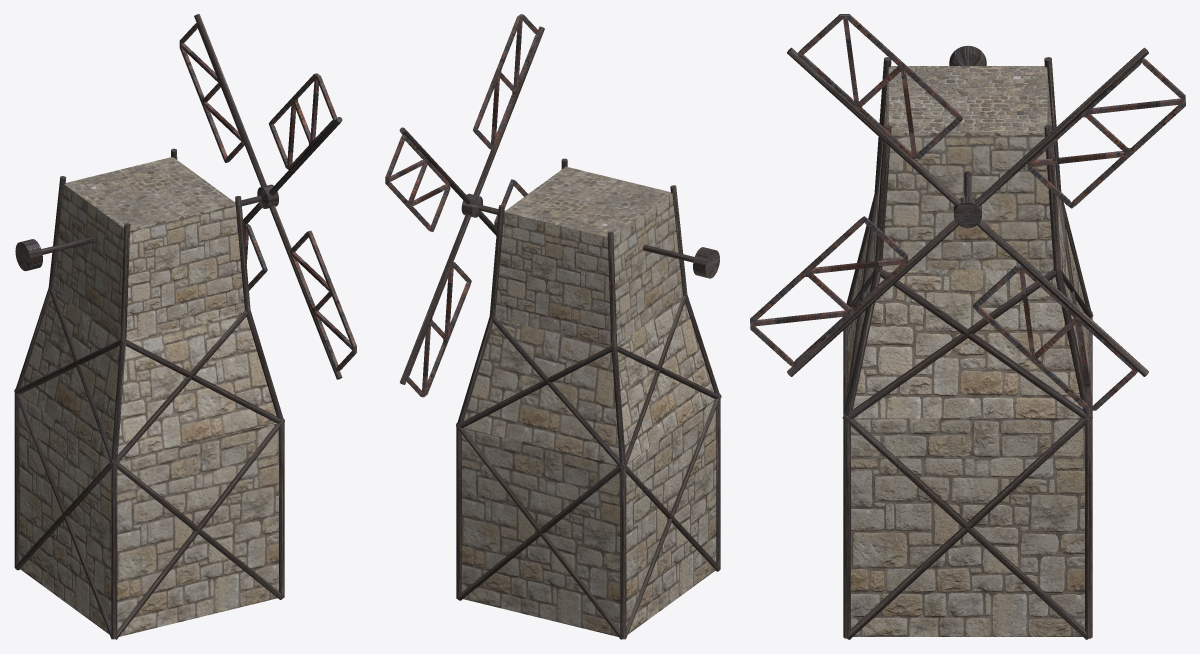
File: mlin_izvanka.glb
The picture shows the model from 3 angles, left to right: view 1: azimuth 30°, elevation 25°; view 2: azimuth 150°, elevation 25°; view 3: azimuth 270°, elevation 25°; orthographic projection. The views are drawn at different scales.
Visible parts, largest first — view 1: Cube, turbina.002, turbina.003, turbina, os, Cylinder.007, Cylinder.008, Cylinder.003, ruka, Cylinder.006, Cylinder.021, Cylinder.022 (+14 smaller); view 2: Cube, turbina.003, turbina.001, turbina, os, Cylinder.002, Cylinder.001, Cylinder.004, Cylinder.005, ruka.001, Cylinder.016, Cylinder.015 (+13 smaller); view 3: Cube, turbina.002, turbina, turbina.003, turbina.001, Cylinder.009, Cylinder.010, Cylinder.019, ruka, Cylinder.020, ruka.001, Cylinder (+11 smaller).
Part boxes in pixels (bbox=[...]): Cube: bbox=[19, 157, 278, 636]; turbina.002: bbox=[290, 230, 356, 371]; turbina.003: bbox=[268, 73, 337, 169]; turbina: bbox=[179, 23, 244, 162]; os: bbox=[15, 184, 278, 271]; Cylinder.007: bbox=[116, 419, 284, 639]; Cylinder.008: bbox=[110, 461, 282, 599]; Cylinder.003: bbox=[14, 389, 111, 639]; ruka: bbox=[194, 14, 266, 186]; Cylinder.006: bbox=[111, 462, 117, 639]; Cylinder.021: bbox=[116, 310, 247, 462]; Cylinder.022: bbox=[125, 339, 281, 423]; Cube: bbox=[462, 166, 716, 636]; turbina.003: bbox=[473, 14, 540, 149]; turbina.001: bbox=[406, 262, 471, 397]; turbina: bbox=[385, 135, 450, 231]; os: bbox=[461, 193, 719, 278]; Cylinder.002: bbox=[456, 424, 621, 639]; Cylinder.001: bbox=[458, 464, 626, 600]; Cylinder.004: bbox=[625, 394, 720, 639]; Cylinder.005: bbox=[620, 465, 626, 639]; ruka.001: bbox=[399, 214, 470, 384]; Cylinder.016: bbox=[492, 317, 620, 465]; Cylinder.015: bbox=[459, 346, 611, 427]; Cube: bbox=[847, 66, 1088, 636]; turbina.002: bbox=[750, 216, 908, 367]; turbina: bbox=[1027, 58, 1185, 208]; turbina.003: bbox=[798, 14, 962, 159]; turbina.001: bbox=[973, 265, 1138, 410]; Cylinder.009: bbox=[842, 415, 1088, 639]; Cylinder.010: bbox=[847, 415, 1092, 639]; Cylinder.019: bbox=[879, 269, 1086, 418]; ruka: bbox=[975, 47, 1148, 206]; Cylinder.020: bbox=[848, 269, 1055, 418]; ruka.001: bbox=[977, 220, 1148, 376]; Cylinder: bbox=[1085, 417, 1092, 638].
Bounding box in the file's own units: 95.87 × 189 × 115.
4 materials, 4 textured.
